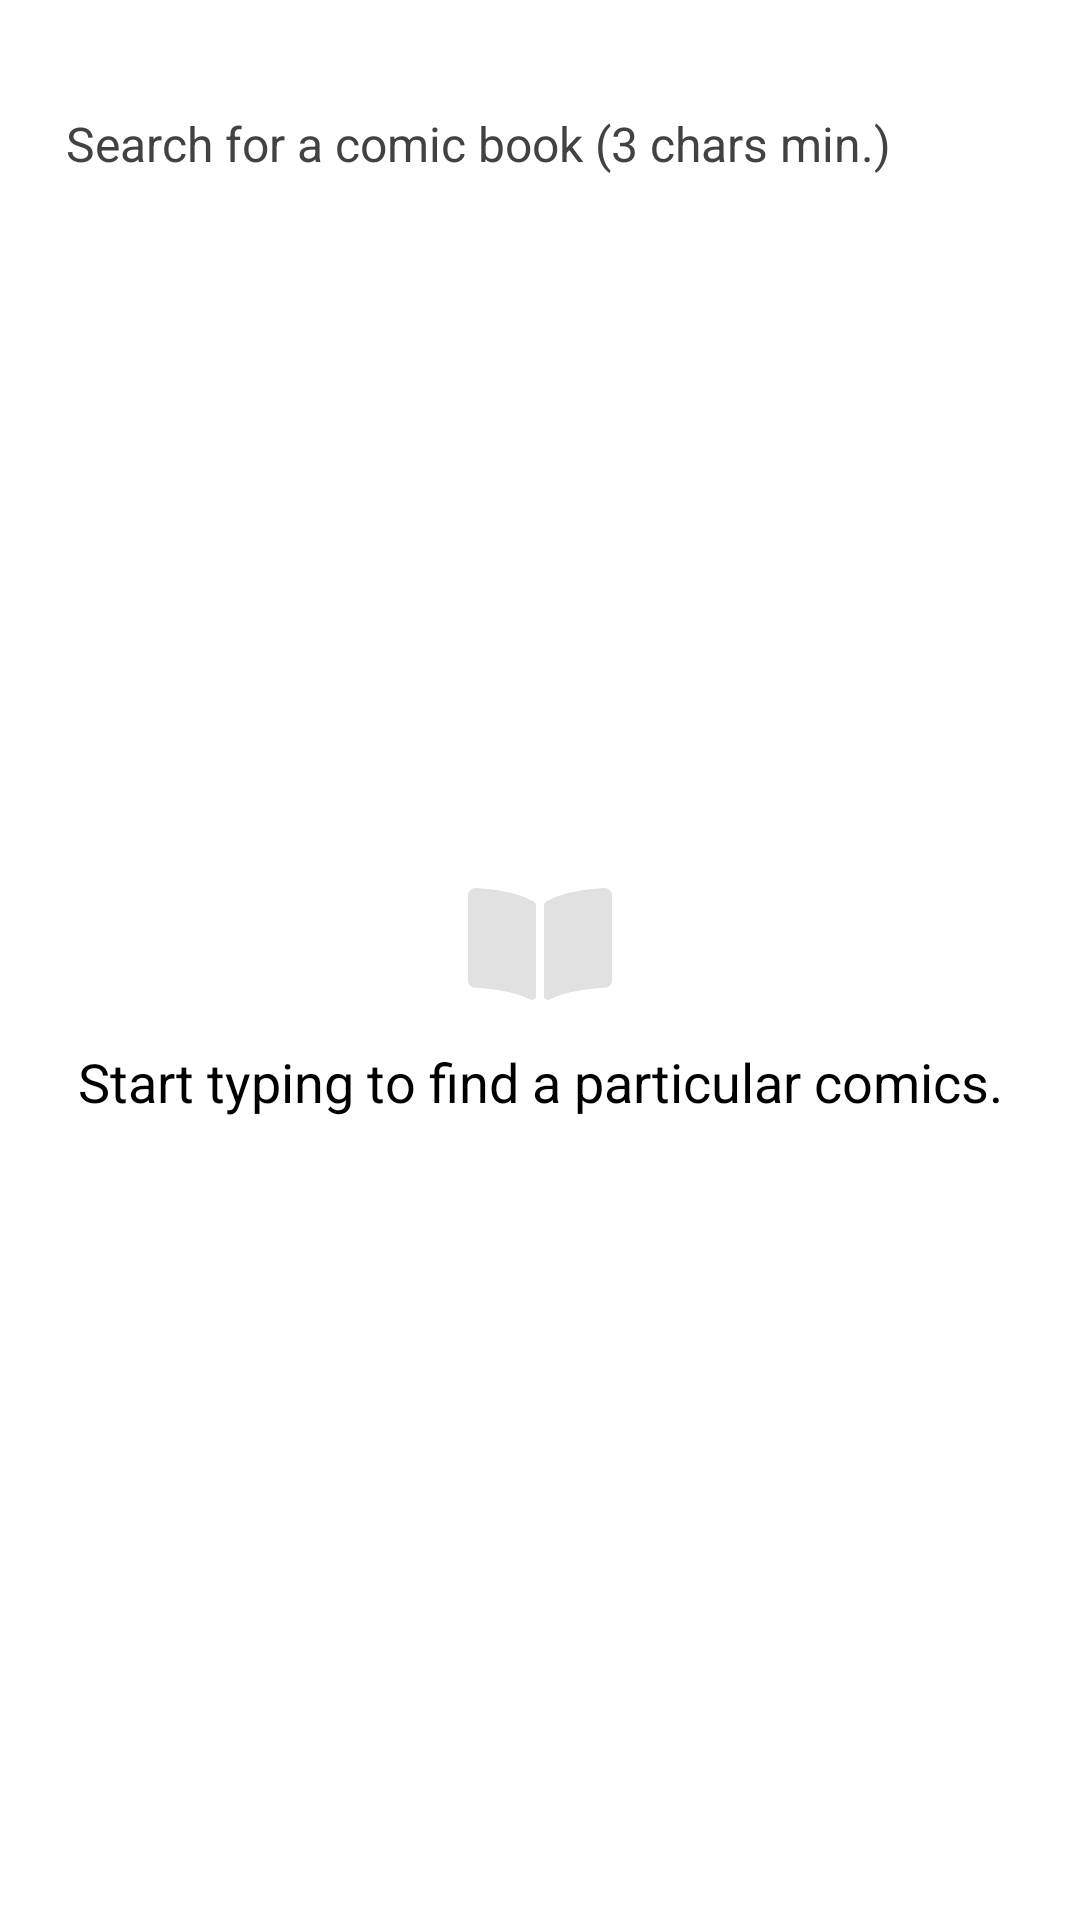

Where icons sit on this 1080 × 1920 app screen, as (x1, y1, x2, y2):
book: (468, 888, 612, 1000)
